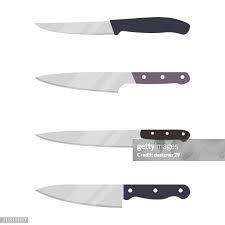Knife: (35, 129, 224, 161), (35, 183, 190, 208), (35, 71, 190, 93), (34, 16, 190, 35)
